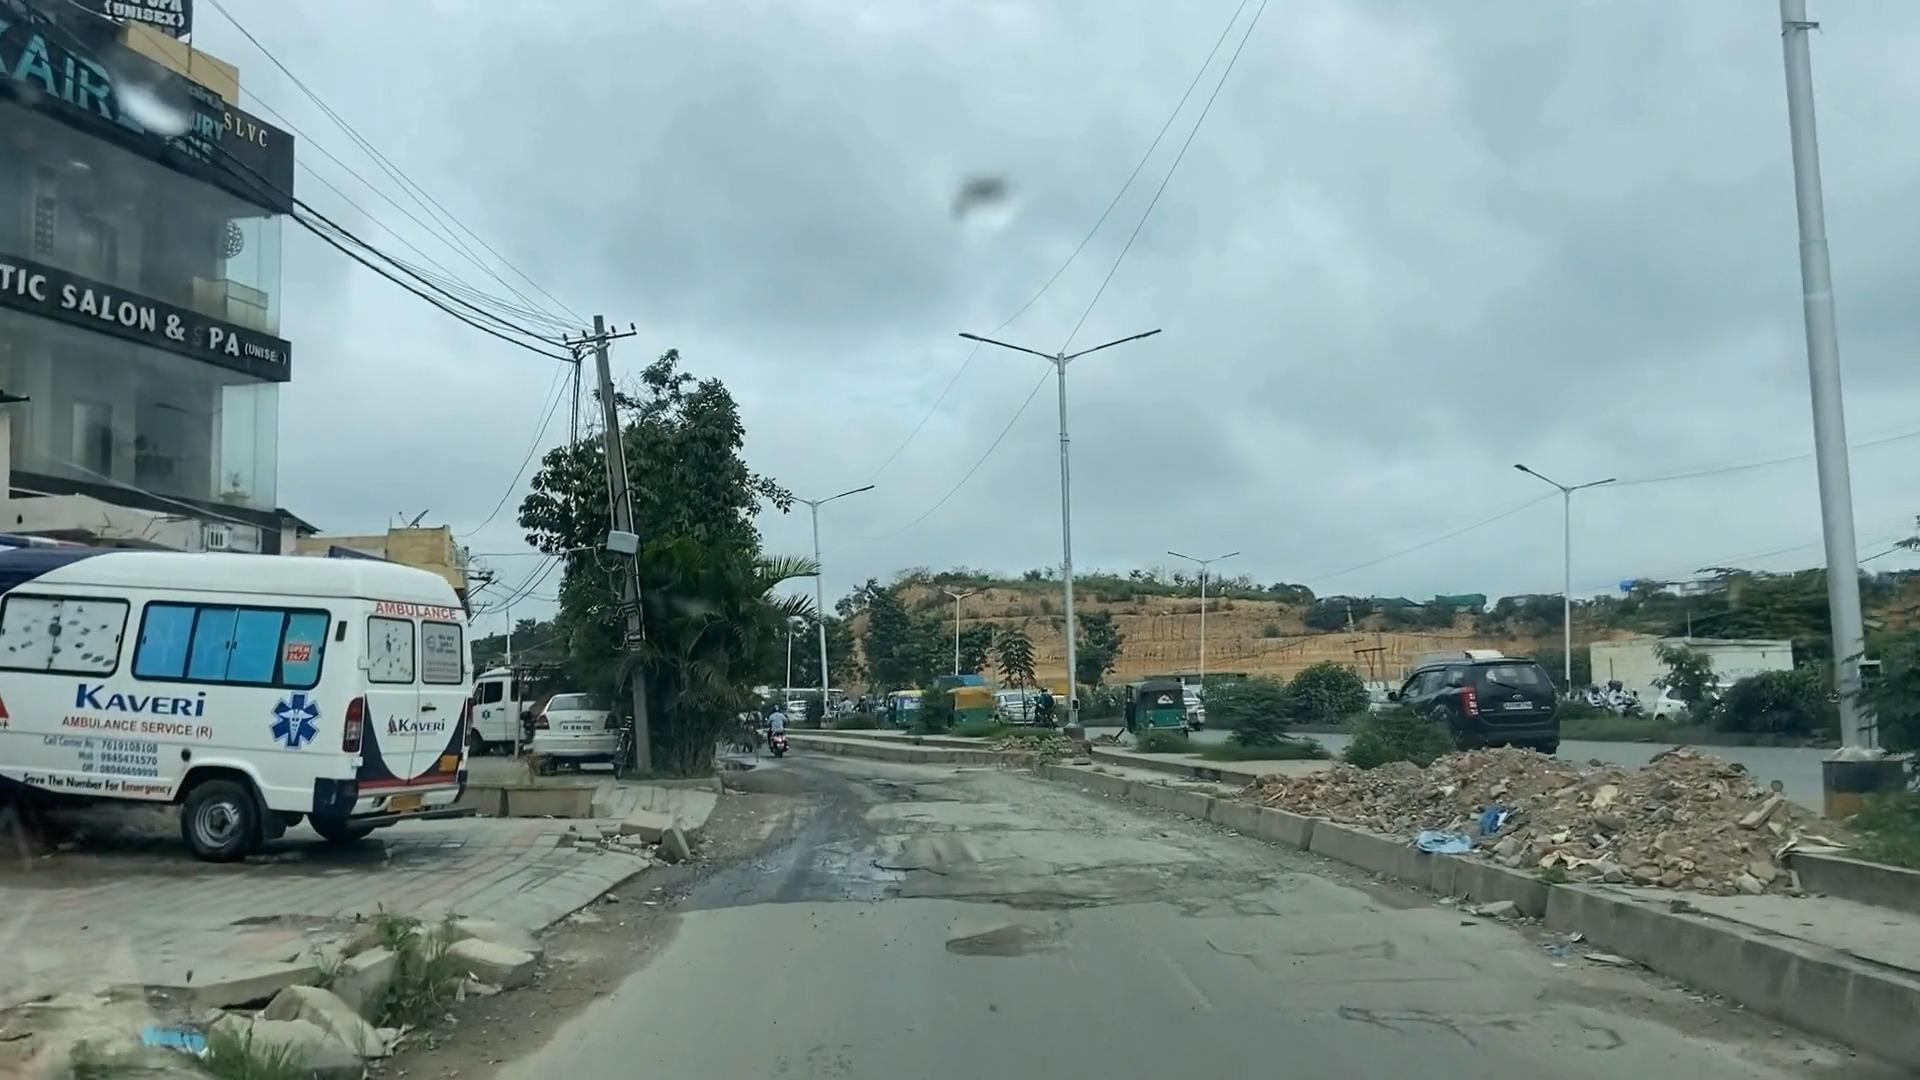RoadDamages: (708, 794, 1084, 945), (1087, 820, 1286, 910)
